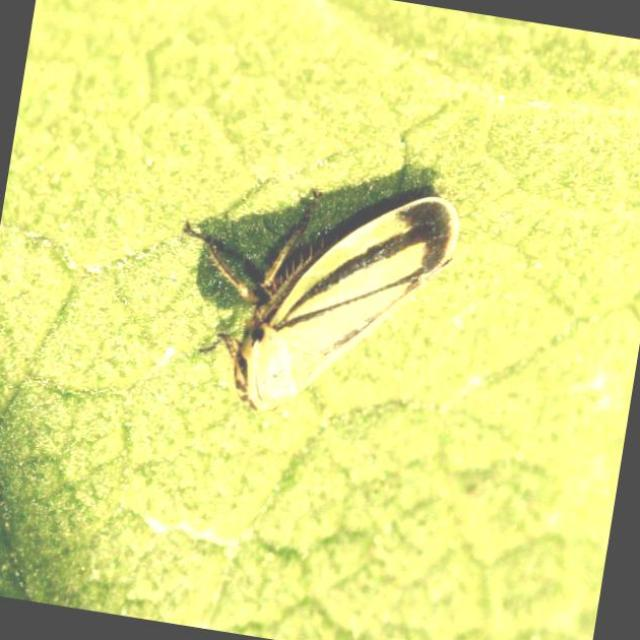green leaf hopper: (186, 194, 458, 410)
